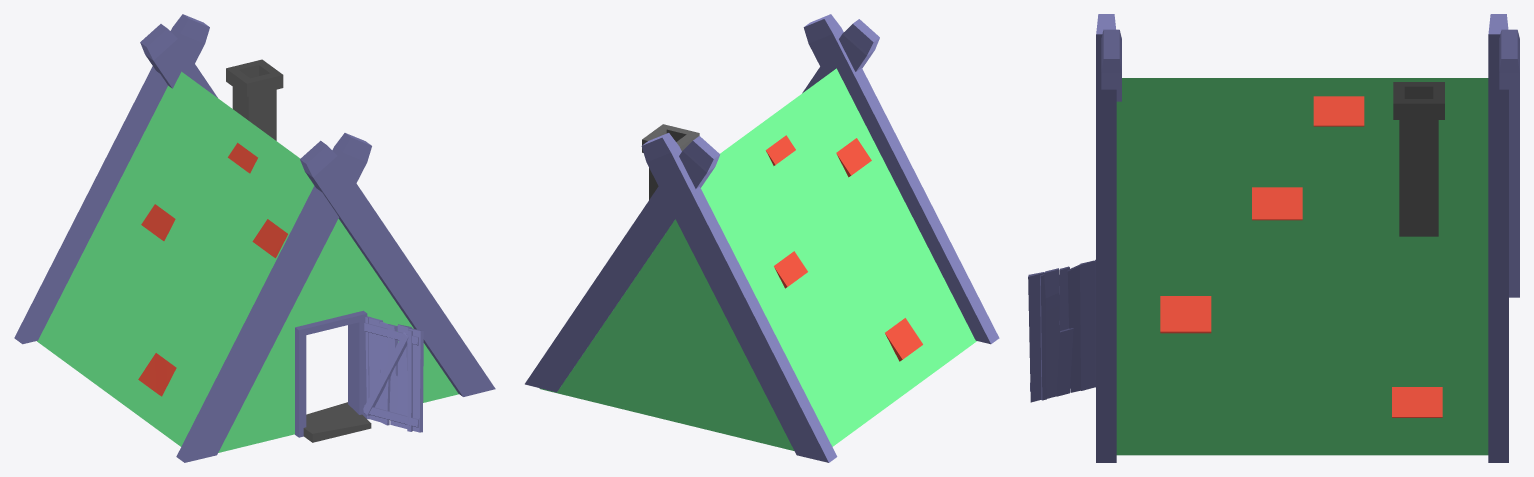
File: SM_Cabin_01.fbx
The picture shows the model from 3 angles, left to right: view 1: azimuth 30°, elevation 25°; view 2: azimuth 150°, elevation 25°; view 3: azimuth 270°, elevation 25°; orthographic projection. The views are drawn at different scales.
Parts seen in each view (by area): view 1: Cube.013; view 2: Cube.013; view 3: Cube.013.
Part boxes in pixels (x1,y1,x2,y2): Cube.013: (14, 14, 495, 462); Cube.013: (525, 14, 999, 462); Cube.013: (1028, 14, 1519, 462).
Size of the model in its own units: 661 by 583 by 741.
